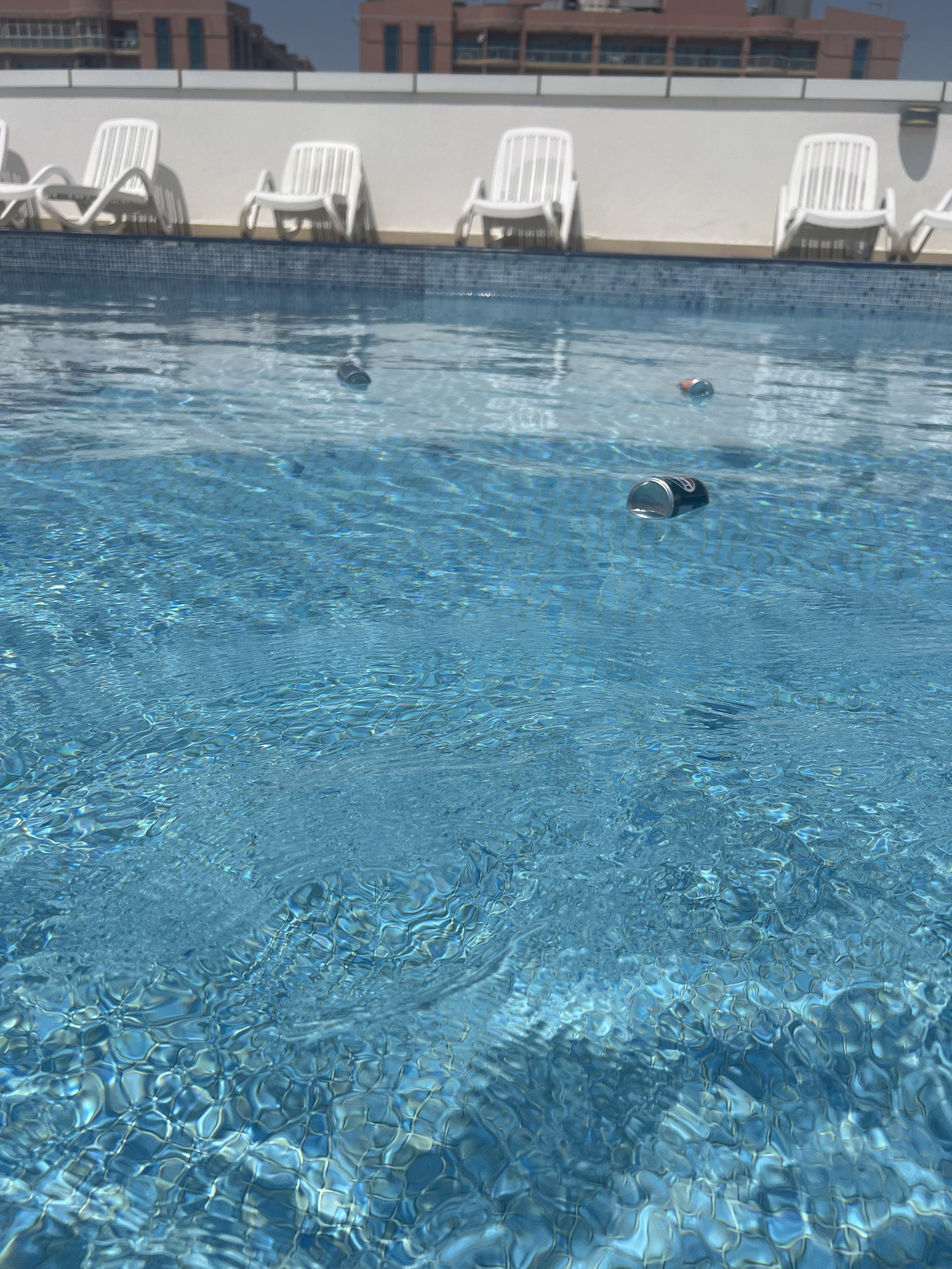debris: (620, 454, 711, 540), (676, 363, 718, 412), (336, 353, 372, 397)
